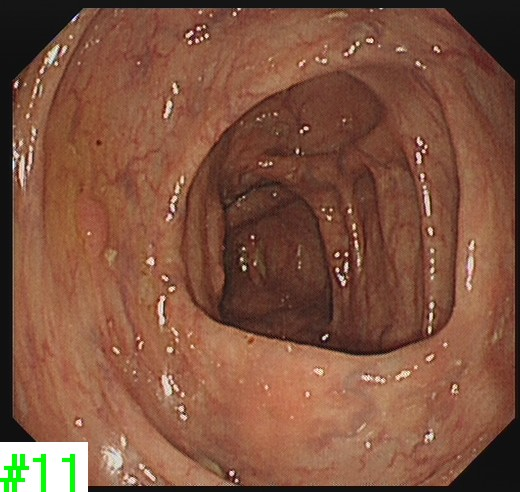adenoma: (70, 193, 112, 260)
